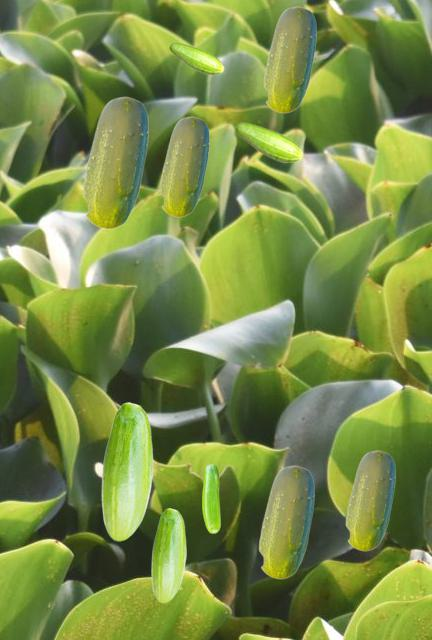cucumber: (82, 96, 147, 228), (101, 402, 152, 540), (258, 465, 313, 578), (263, 6, 315, 112), (345, 450, 394, 550), (159, 116, 208, 216), (151, 508, 185, 602), (235, 122, 302, 162), (169, 42, 223, 74), (202, 464, 219, 532)
